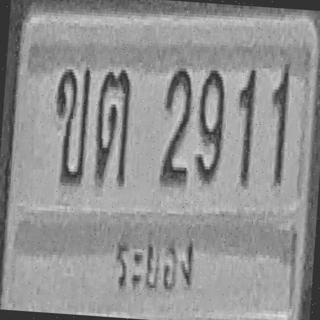A02: (50, 62, 91, 184)
A21: (92, 64, 132, 185)
N01: (266, 59, 291, 185), (232, 64, 257, 184)
N02: (158, 63, 194, 184)
N09: (193, 65, 227, 183)
P53: (106, 225, 199, 303)
